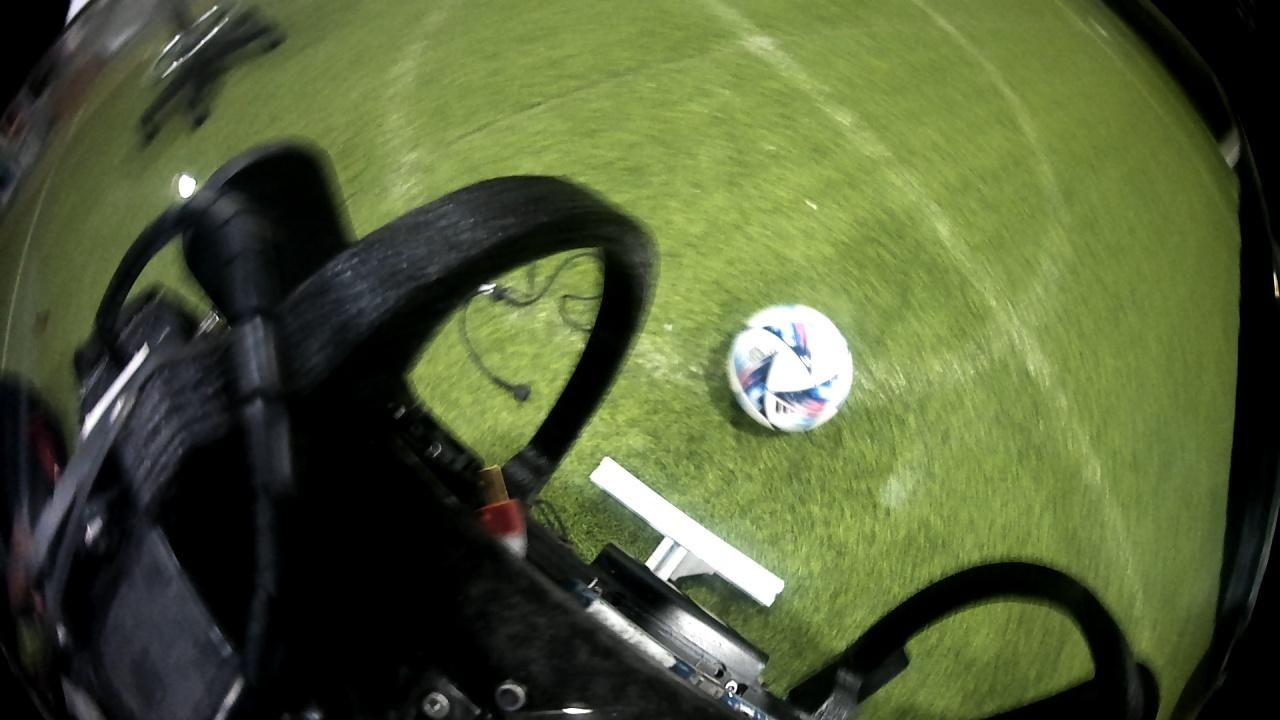ball: (723, 301, 861, 442)
